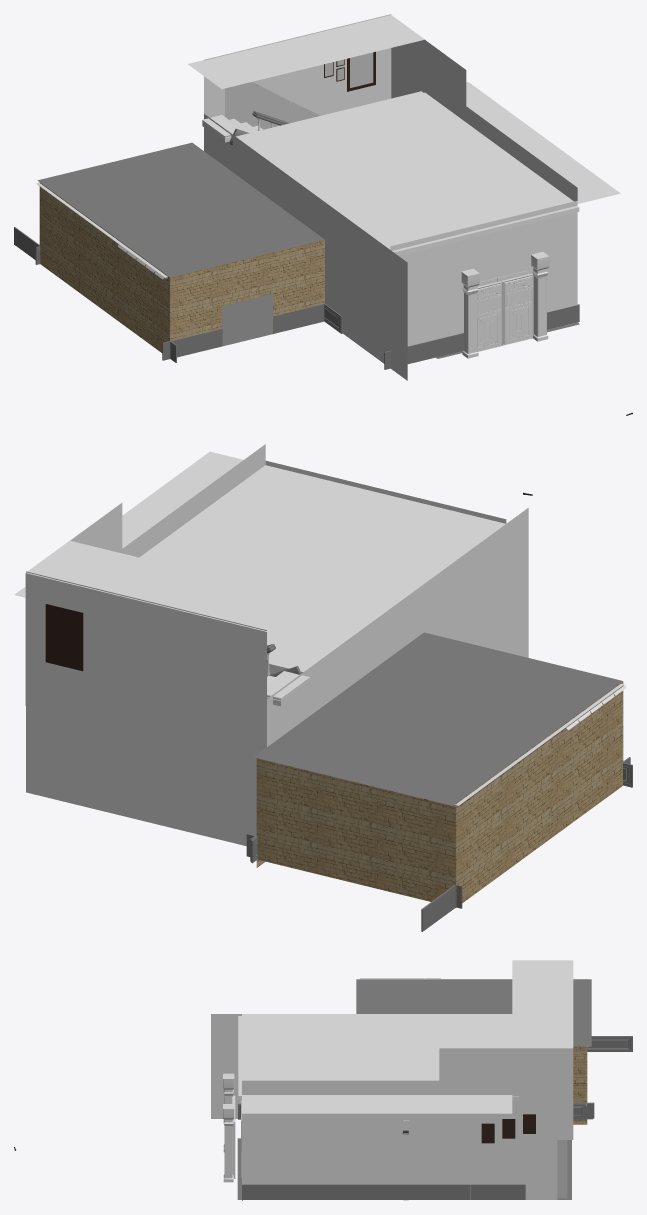
The model's file is Building.FBX.
3 renders of one model, top to bottom at view 1: azimuth 30°, elevation 25°; view 2: azimuth 150°, elevation 25°; view 3: azimuth 270°, elevation 25°, orthographic. The views are drawn at different scales.
Visible parts, largest first — view 1: construction, CEILINGSMALLROOM, Brick_Wall, wall_tiles, stair, FLOOR2, Box147, Box146, ceiling, Box149, Box180, Tiles_extra (+4 smaller); view 2: construction, Brick_Wall, CEILINGSMALLROOM, painting008, wall_tiles, ceiling004, stair_part3; view 3: construction, CEILINGSMALLROOM, tiles_mainroom, Brick_Wall, wall_tiles, Box180, stair, FLOOR.
Part boxes in pixels (x1,y1,x2,y2): construction: (188,14,620,380); CEILINGSMALLROOM: (37,142,324,277); Brick_Wall: (39,182,324,352); wall_tiles: (14,227,342,362); stair: (225,81,320,129); FLOOR2: (178,294,321,357); Box147: (501,273,533,345); Box146: (477,281,502,351); ceiling: (392,206,579,255); Box149: (461,268,479,358); Box180: (531,252,549,341); Tiles_extra: (384,333,463,369); construction: (14,444,528,845); Brick_Wall: (256,681,623,907); CEILINGSMALLROOM: (254,632,622,805); painting008: (45,604,83,671); wall_tiles: (246,757,632,931); ceiling004: (258,683,626,807); stair_part3: (267,671,309,706); construction: (211,960,573,1199); CEILINGSMALLROOM: (356,979,591,1046); tiles_mainroom: (243,1104,585,1199); Brick_Wall: (573,1046,587,1124); wall_tiles: (573,1036,632,1121); Box180: (223,1104,234,1182); stair: (557,1140,567,1198); FLOOR: (237,1138,571,1199).
Size of the model in its own units: 77.59 by 33.69 by 119.
